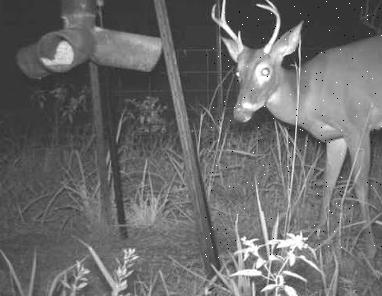Deer: (203, 0, 382, 258)
